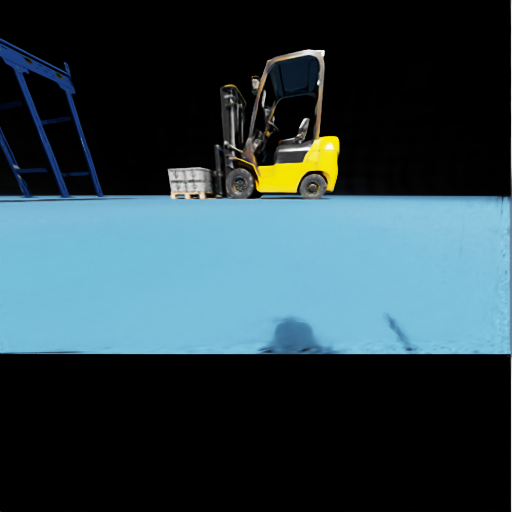transportation_area: (186, 180, 216, 191)
